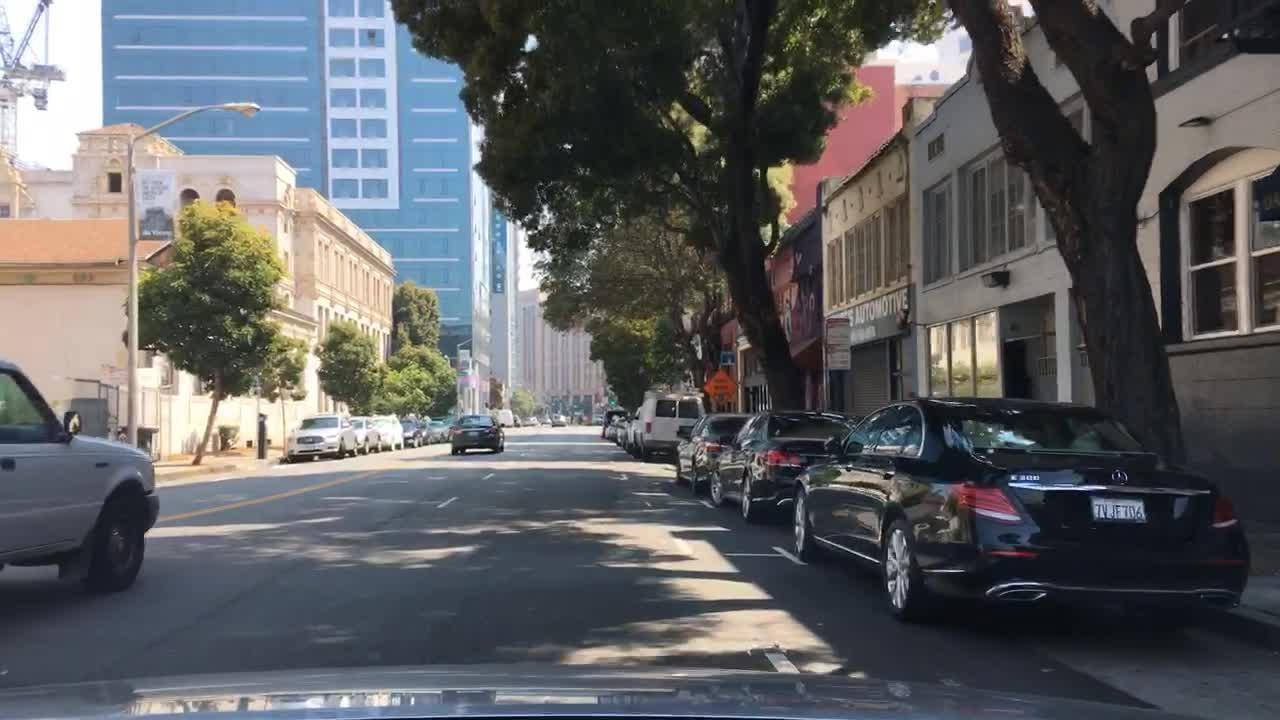Mercedes: (1109, 468, 1132, 488)
